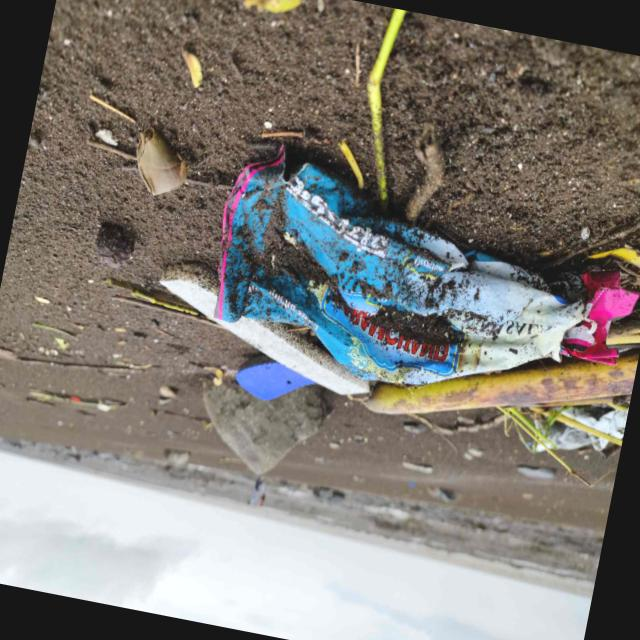dep: (236, 355, 314, 401)
rac_huu_co: (366, 353, 640, 415), (104, 278, 220, 326), (0, 348, 142, 374), (95, 224, 134, 268), (86, 139, 136, 161), (186, 177, 230, 189), (121, 163, 137, 170)
tui_ni_long: (216, 151, 601, 386)
xop: (159, 263, 369, 395)
